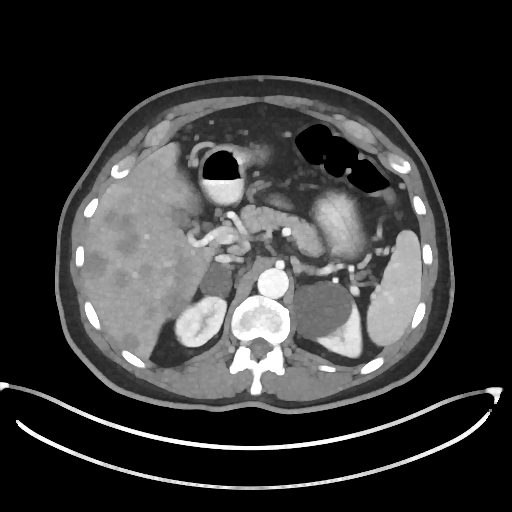Lesion: (287, 279, 356, 341)
